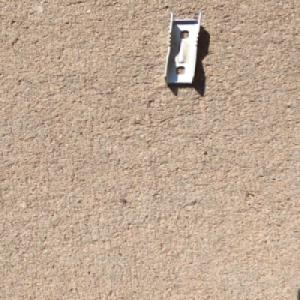ClampPart: (160, 9, 204, 86)
